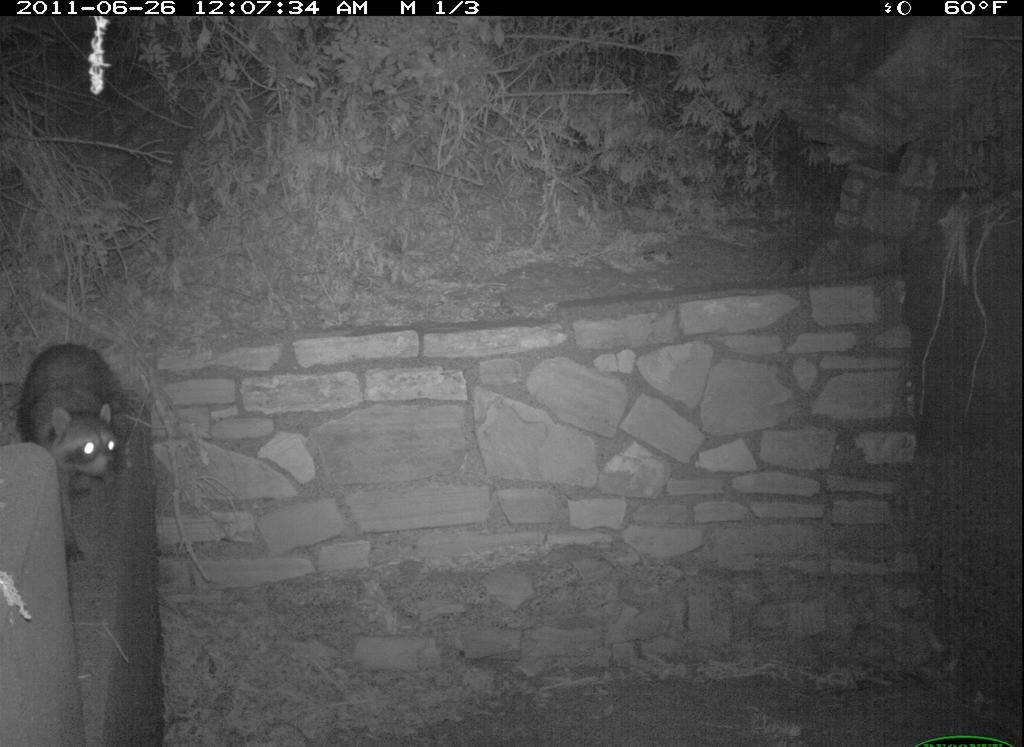raccoon: (12, 329, 144, 578)
